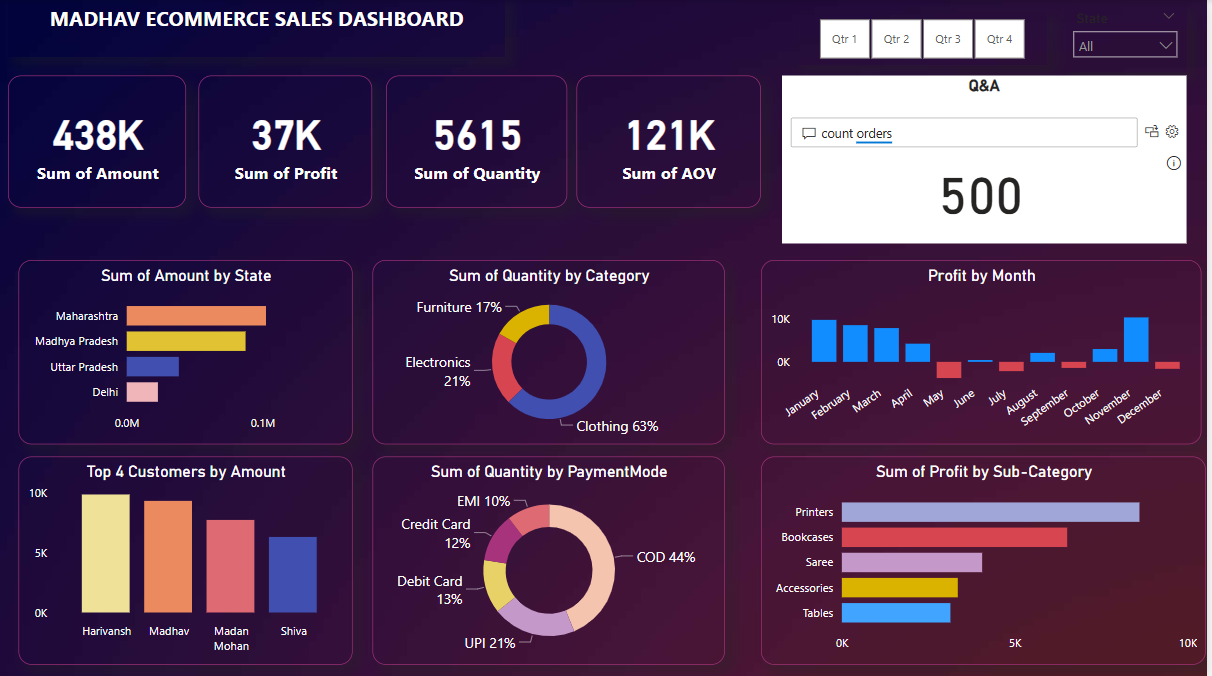

Layout of this report page (visuals, bound fields, positions):
{"tool":"powerbi","page":{"name":"Page 1","canvas":[1280,720],"ordinal":0},"visuals":[{"type":"textbox","box":[9.6,0,526.9,61.5],"z":0},{"type":"columnChart","title":"Profit by Month","fields":{"Category":["Orders.Order Date.Variation.Date Hierarchy.Month"],"Y":["Details.Profit"]},"box":[807.9,276.2,466.7,195.2],"z":1000},{"type":"barChart","fields":{"Category":["Details.Sub-Category"],"Y":["Details.Profit"]},"box":[807.9,484.1,471.4,220.6],"z":2000},{"type":"donutChart","fields":{"Category":["Details.Category"],"Y":["Details.Quantity"]},"box":[395.2,276.2,373,195.2],"z":3000},{"type":"donutChart","fields":{"Y":["Details.Quantity"],"Category":["Details.PaymentMode"]},"box":[395.2,484.1,373,220.6],"z":4000},{"type":"card","fields":{"Values":["Details.Amount"]},"box":[9.5,81,188.9,139.7],"z":5000},{"type":"card","fields":{"Values":["Details.Profit"]},"box":[211.1,81,184.1,139.7],"z":6000},{"type":"card","fields":{"Values":["Details.Quantity"]},"box":[409.5,81,192.1,139.7],"z":7000},{"type":"card","fields":{"Values":["Details.AOV"]},"box":[612.7,81,195.2,139.7],"z":8000},{"type":"clusteredBarChart","fields":{"Category":["Orders.State"],"Y":["Details.Amount"]},"box":[20.6,276.2,354,195.2],"z":9000},{"type":"columnChart","title":"Top 4 Customers by Amount","fields":{"Y":["Details.Amount"],"Category":["Orders.CustomerName"]},"box":[20.6,484.1,354,220.6],"z":10000},{"type":"slicer","fields":{"Values":["Orders.Order Date.Variation.Date Hierarchy.Quarter"]},"box":[844.4,14.3,266.7,55.6],"z":11000},{"type":"slicer","fields":{"Values":["Orders.State"]},"box":[1128.6,6.3,130.2,71.4],"z":12000},{"type":"qnaVisual","title":"Q&A","box":[830.2,81,428.6,177.8],"z":13000}]}

Visuals, with their boxes in screenshot pixels (x1, y1, x2, y2), scaled from the page's 1280x720 canvas onto the 1212x676 screenshot:
textbox: 9, 0, 508, 58
"Profit by Month" columnChart: 765, 259, 1207, 443
barChart - Details.Sub-Category x Details.Profit: 765, 455, 1211, 662
donutChart - Details.Category x Details.Quantity: 374, 259, 727, 443
donutChart - Details.Quantity x Details.PaymentMode: 374, 455, 727, 662
card - Details.Amount: 9, 76, 188, 207
card - Details.Profit: 200, 76, 374, 207
card - Details.Quantity: 388, 76, 570, 207
card - Details.AOV: 580, 76, 765, 207
clusteredBarChart - Orders.State x Details.Amount: 20, 259, 355, 443
"Top 4 Customers by Amount" columnChart: 20, 455, 355, 662
slicer - Orders.Order Date.Variation.Date Hierarchy.Quarter: 800, 13, 1052, 66
slicer - Orders.State: 1069, 6, 1192, 73
"Q&A" qnaVisual: 786, 76, 1192, 243
